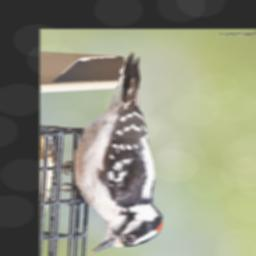Woodpecker: (60, 49, 166, 253)
